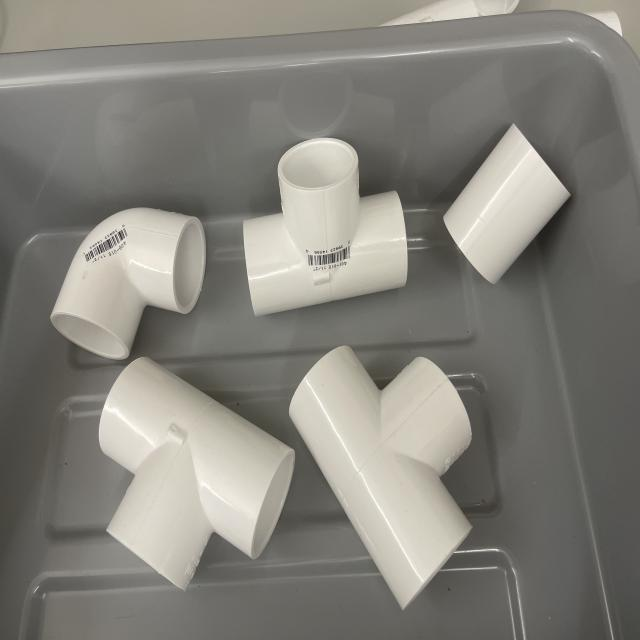L Joint: (49, 207, 208, 363)
T Joint: (288, 346, 477, 612), (96, 357, 295, 586), (244, 138, 408, 309)
